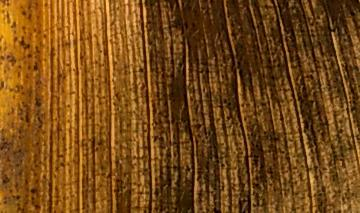tarspot: (252, 191, 266, 210), (18, 35, 31, 50), (29, 195, 42, 210), (1, 136, 12, 152), (24, 110, 33, 125), (182, 18, 191, 32), (252, 153, 260, 168), (33, 96, 42, 109), (1, 173, 10, 186), (36, 116, 44, 129), (159, 182, 167, 195), (157, 135, 166, 146), (152, 133, 160, 144), (137, 64, 145, 75), (298, 23, 306, 34), (238, 68, 244, 82), (153, 186, 160, 198), (30, 186, 39, 195), (348, 9, 356, 19), (303, 117, 309, 130), (32, 61, 39, 72), (34, 44, 42, 53), (212, 206, 222, 213), (97, 137, 104, 147), (308, 73, 315, 83), (337, 128, 345, 136), (27, 12, 33, 22), (1, 79, 5, 93), (20, 9, 27, 17), (275, 61, 282, 69), (254, 142, 260, 151), (26, 52, 33, 59), (78, 54, 85, 61), (226, 100, 232, 108), (15, 194, 21, 202), (220, 162, 226, 170), (26, 63, 31, 72), (214, 157, 220, 164), (315, 14, 321, 21), (222, 97, 227, 105), (269, 26, 275, 32), (98, 48, 103, 55), (220, 73, 225, 80), (218, 62, 223, 69)
